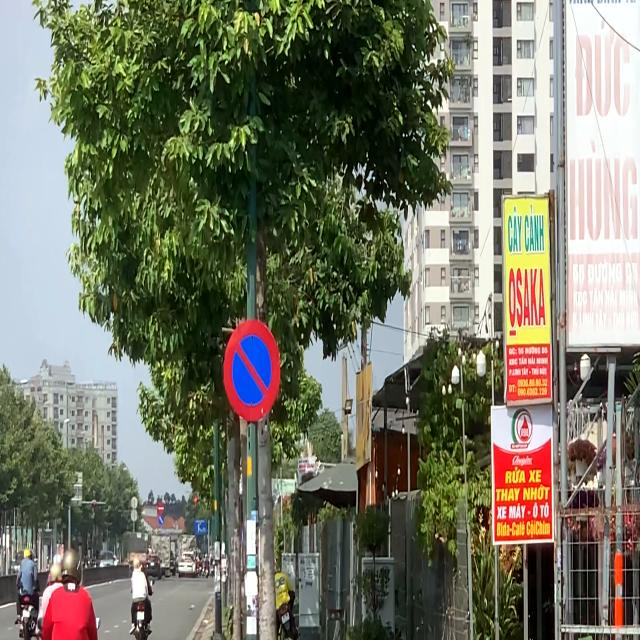P.102: (156, 500, 164, 514)
P.131a: (222, 307, 282, 438)
R.302a: (157, 515, 165, 525)
